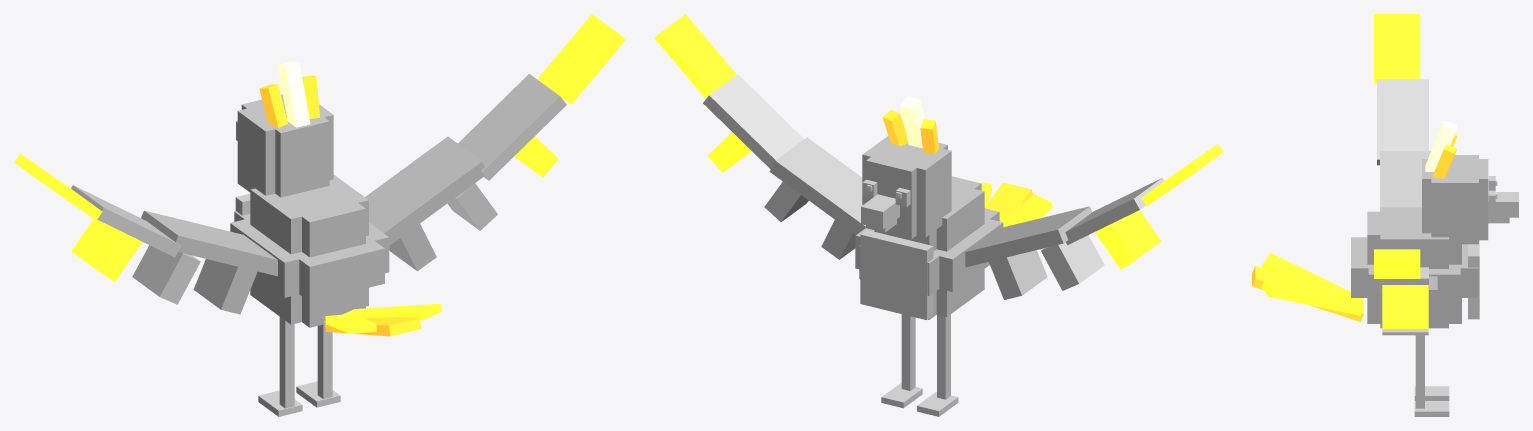
Rendered from Phoenix.fbx.
3 renders of one model, left to right at view 1: azimuth 30°, elevation 25°; view 2: azimuth 150°, elevation 25°; view 3: azimuth 270°, elevation 25°, orthographic. The views are drawn at different scales.
Parts seen in each view (by area): view 1: Phoenix_wingR_20, Phoenix_wingR_22, Phoenix_body_5, Phoenix_body_3, Phoenix_wingR_24, Phoenix_wingL_21, Phoenix_body_4, Phoenix_head_10, Phoenix_body_2, Phoenix_wingL_31, Phoenix_wingL_29, Phoenix_wingL_27 (+20 smaller); view 2: Phoenix_body_6, Phoenix_wingR_20, Phoenix_wingR_22, Phoenix_wingL_21, Phoenix_wingR_24, Phoenix_head_10, Phoenix_head_9, Phoenix_body_2, Phoenix_wingL_31, Phoenix_body_4, Phoenix_wingL_29, Phoenix_wingL_27 (+20 smaller); view 3: Phoenix_wingL_23, Phoenix_wingL_25, Phoenix_wingL_21, Phoenix_head_9, Phoenix_wingR_30, Phoenix_body_4, Phoenix_body_3, Phoenix_body_5, Phoenix_head_10, Phoenix_body_2, Phoenix_tail_33, Phoenix_head_7 (+15 smaller).
Boxes of the visible parts, <box> form: Phoenix_wingR_20: <box>365,136,484,245</box>; Phoenix_wingR_22: <box>458,73,566,180</box>; Phoenix_body_5: <box>272,183,365,257</box>; Phoenix_body_3: <box>234,211,384,301</box>; Phoenix_wingR_24: <box>537,14,625,104</box>; Phoenix_wingL_21: <box>141,210,277,276</box>; Phoenix_body_4: <box>250,175,368,254</box>; Phoenix_head_10: <box>241,94,329,169</box>; Phoenix_body_2: <box>230,218,389,297</box>; Phoenix_wingL_31: <box>71,219,142,281</box>; Phoenix_wingL_29: <box>132,245,200,304</box>; Phoenix_wingL_27: <box>193,259,257,314</box>; Phoenix_body_6: <box>860,230,933,319</box>; Phoenix_wingR_20: <box>769,137,865,234</box>; Phoenix_wingR_22: <box>703,74,803,169</box>; Phoenix_wingL_21: <box>965,206,1092,267</box>; Phoenix_wingR_24: <box>654,14,736,98</box>; Phoenix_head_10: <box>866,142,947,205</box>; Phoenix_head_9: <box>862,135,951,203</box>; Phoenix_body_2: <box>855,218,1003,291</box>; Phoenix_wingL_31: <box>1095,210,1161,269</box>; Phoenix_body_4: <box>874,183,984,251</box>; Phoenix_wingL_29: <box>1041,235,1104,290</box>; Phoenix_wingL_27: <box>989,250,1047,299</box>; Phoenix_wingL_23: <box>1377,79,1428,165</box>; Phoenix_wingL_25: <box>1374,14,1420,83</box>; Phoenix_wingL_21: <box>1380,151,1430,211</box>; Phoenix_head_9: <box>1431,155,1478,213</box>; Phoenix_wingR_30: <box>1382,285,1428,328</box>; Phoenix_body_4: <box>1380,207,1448,268</box>; Phoenix_body_3: <box>1351,237,1478,297</box>; Phoenix_body_5: <box>1367,211,1461,264</box>; Phoenix_head_10: <box>1422,159,1488,209</box>; Phoenix_body_2: <box>1368,264,1460,304</box>; Phoenix_tail_33: <box>1261,281,1363,315</box>; Phoenix_head_7: <box>1431,213,1478,244</box>.
Bounding box in the file's own units: 491 × 268 × 230.
